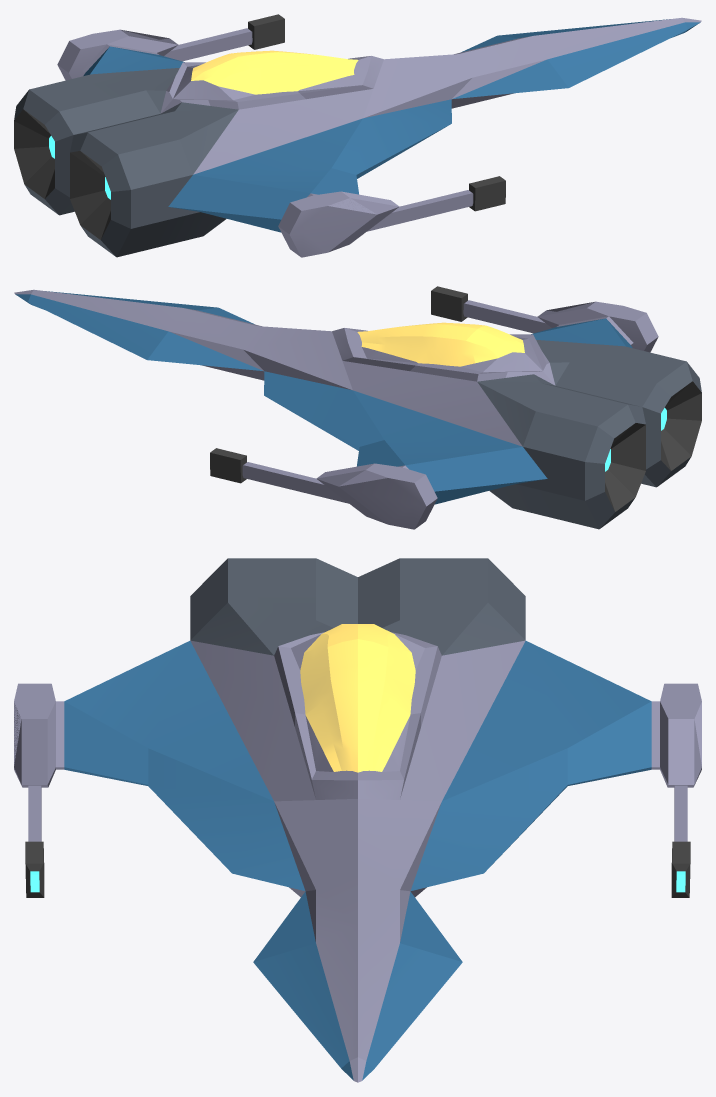
Rendered from SpaceShip V3.glb.
3 views of the same model, one above another, from view 1: azimuth 30°, elevation 25°; view 2: azimuth 150°, elevation 25°; view 3: azimuth 270°, elevation 25° (orthographic). The views are drawn at different scales.
Visible parts, largest first — view 1: Ship; view 2: Ship; view 3: Ship.
Boxes of the visible parts, bbox=[...] form: Ship: bbox=[14, 14, 701, 257]; Ship: bbox=[14, 286, 701, 529]; Ship: bbox=[14, 558, 701, 1082].
Size of the model in its own units: 25.75 by 4.96 by 16.4.
